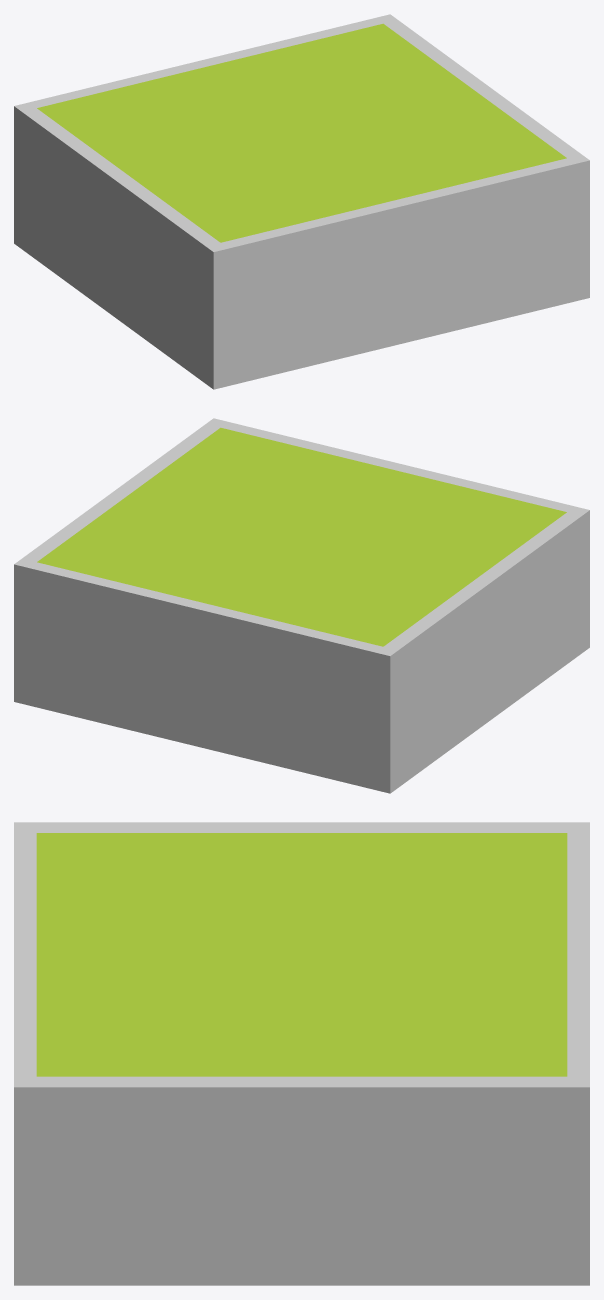
Rendered from locatia3.fbx.
The picture shows the model from 3 angles, top to bottom: view 1: azimuth 30°, elevation 25°; view 2: azimuth 150°, elevation 25°; view 3: azimuth 270°, elevation 25°; orthographic projection. The views are drawn at different scales.
Parts seen in each view (by area): view 1: Plane; view 2: Plane; view 3: Plane.
Part boxes in pixels (x1,y1,x2,y2): Plane: [14, 14, 589, 389]; Plane: [14, 418, 589, 793]; Plane: [14, 822, 589, 1285].
Bounding box in the file's own units: 716 × 251 × 658.
